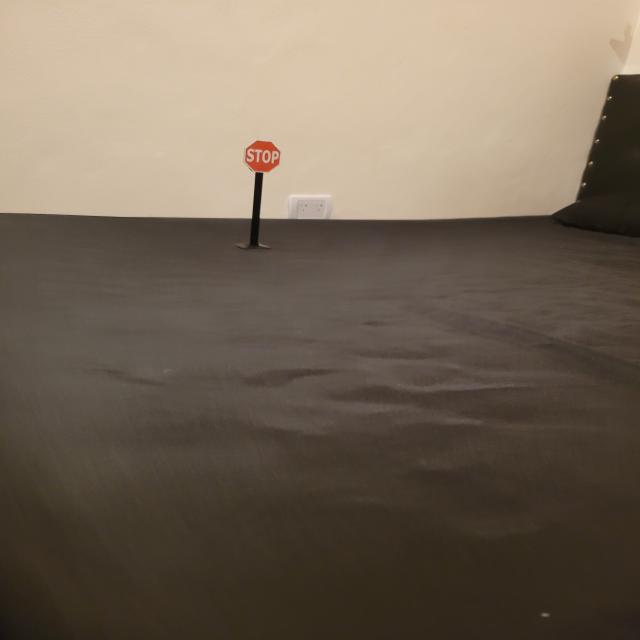stop: (242, 140, 282, 174)
